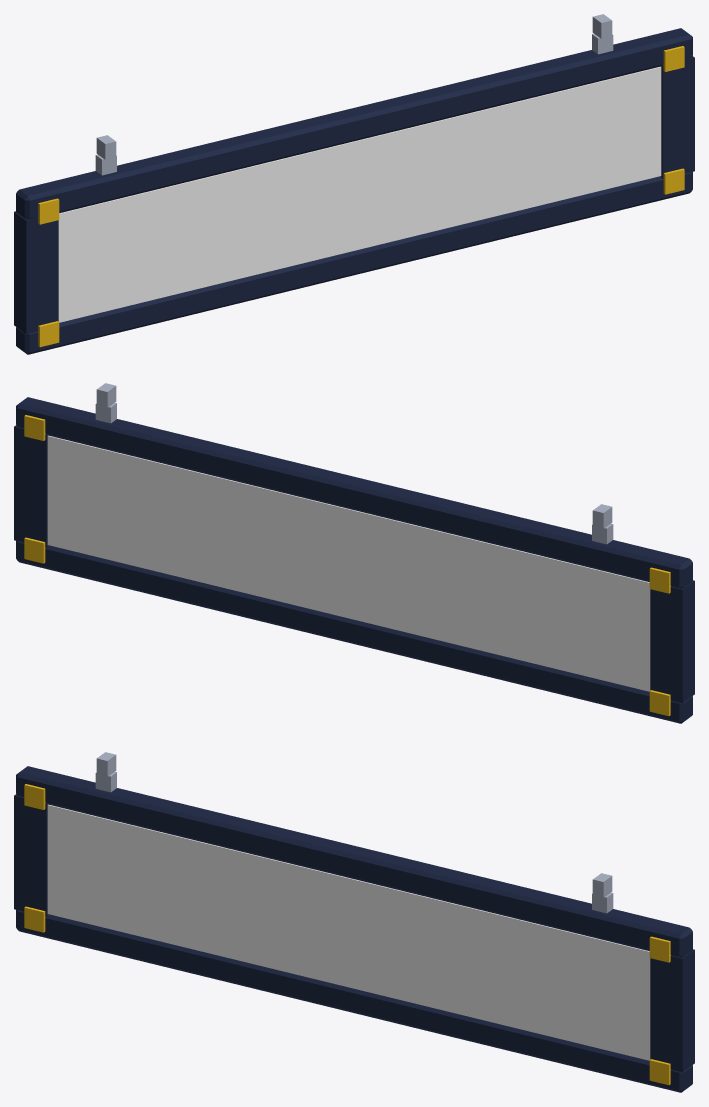
Rendered from gate_panel.glb.
3 renders of one model, top to bottom at view 1: azimuth 30°, elevation 25°; view 2: azimuth 150°, elevation 25°; view 3: azimuth 330°, elevation 25°, orthographic.
Visible parts, largest first — view 1: gate_panel; view 2: gate_panel; view 3: gate_panel.
Part boxes in pixels (x1=…): gate_panel: x1=14, y1=14, x2=694, y2=354; gate_panel: x1=14, y1=383, x2=694, y2=723; gate_panel: x1=14, y1=752, x2=694, y2=1092.
Size of the model in its own units: 6.2 by 1.7 by 0.25.
2 materials, 1 textured.
